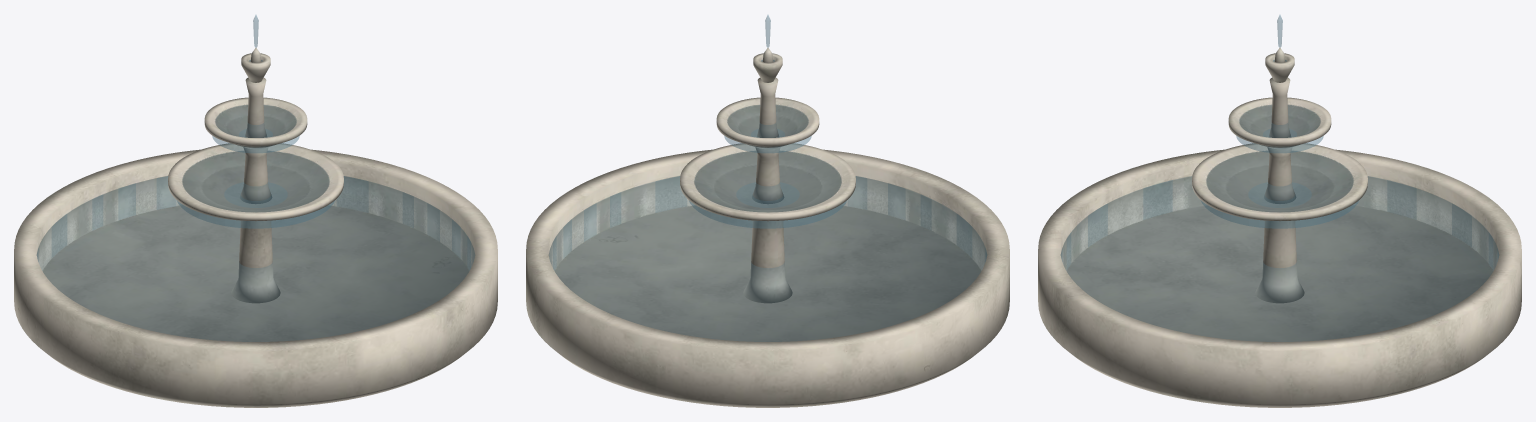
File: three-tier.glb
3 renders of one model, left to right at view 1: azimuth 30°, elevation 25°; view 2: azimuth 150°, elevation 25°; view 3: azimuth 270°, elevation 25°, orthographic.
Visible parts, largest first — view 1: fountain_stone, water; view 2: fountain_stone, water; view 3: fountain_stone, water.
Part boxes in pixels (left/top/right/bottom): fountain_stone: left=14, top=47, right=497, bottom=407; water: left=37, top=15, right=474, bottom=341; fountain_stone: left=526, top=47, right=1009, bottom=407; water: left=549, top=15, right=986, bottom=341; fountain_stone: left=1038, top=47, right=1521, bottom=407; water: left=1061, top=15, right=1498, bottom=341.
Bounding box in the file's own units: 3.3 × 2.22 × 3.3.
Materials: 2 (1 with a texture image).
